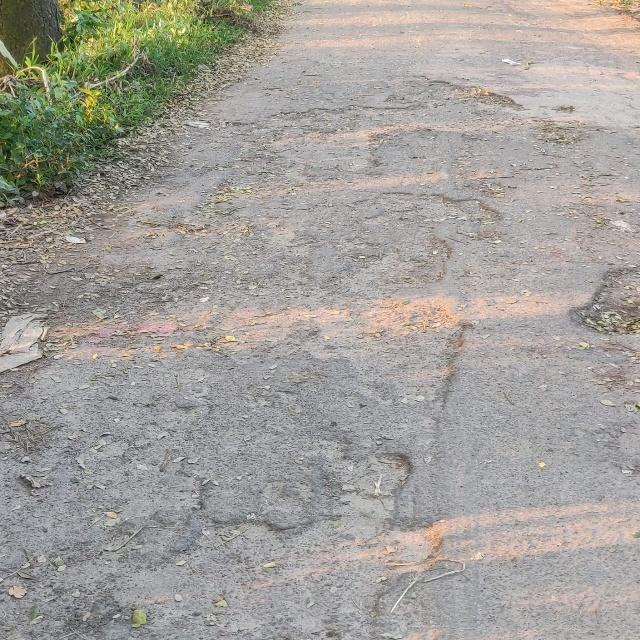Pothole: (589, 272, 640, 348)
Surface Erosion: (52, 71, 581, 640)
